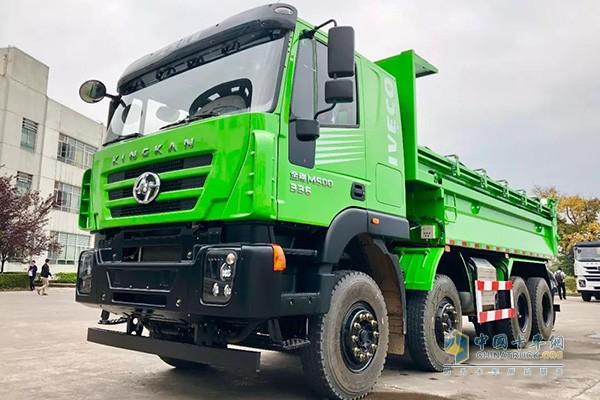truck: (66, 1, 573, 400)
